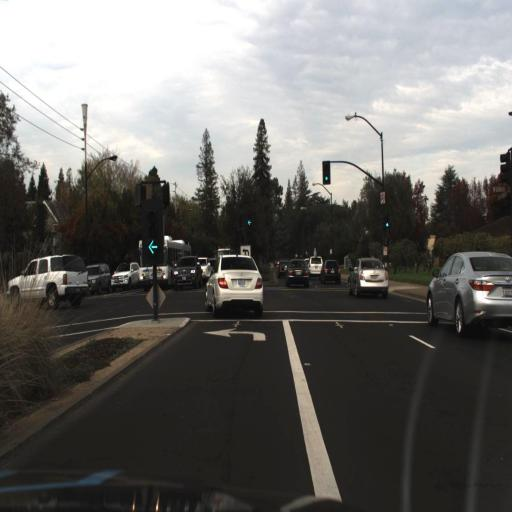car: (424, 248, 511, 340), (6, 251, 87, 312), (203, 255, 265, 317), (346, 256, 391, 300), (108, 258, 140, 291), (84, 259, 111, 295), (285, 255, 311, 289), (319, 255, 343, 287), (311, 252, 323, 280), (278, 256, 291, 278)
trafficLight: (323, 158, 331, 188), (246, 208, 252, 228)
trafficLight-Green: (382, 208, 390, 229)
trafficLight-GreenLeft: (141, 207, 164, 267)
truck: (134, 236, 193, 290)
